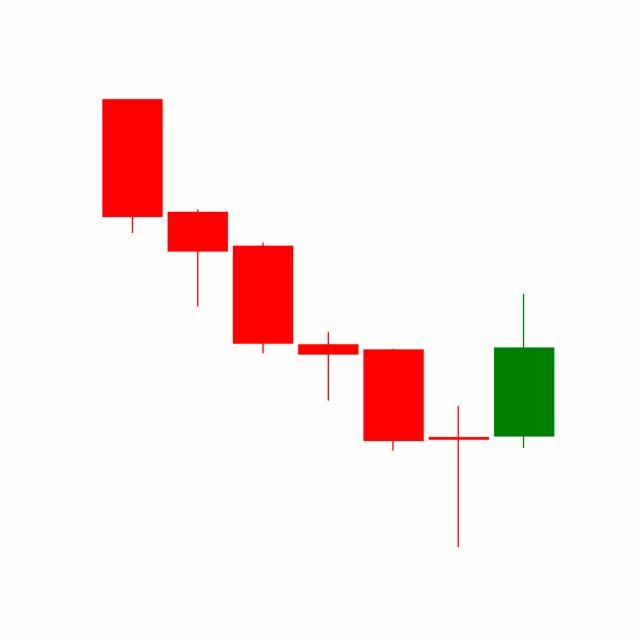Ladder Bottom: (229, 238, 555, 548)
